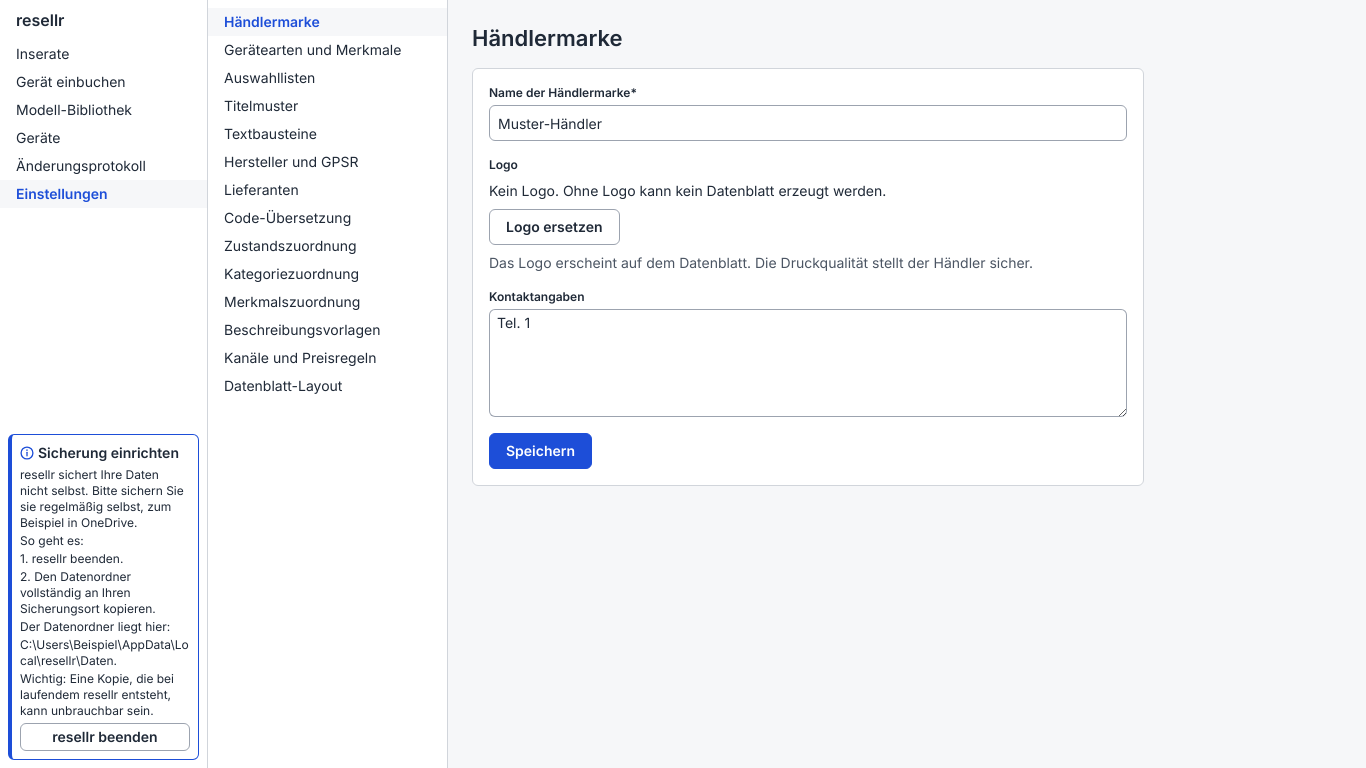
Test case: UI-026 merchant profile (CU-097) › UI-026.error DER-42-04 shows the error banner with the reference number and keeps the inputs
The image size is (1366, 768).
Expected: the field labelled "Name der Händlermarke*" holds "Muster-Händler", left=489, top=105, right=1127, bottom=141
Step 1. Replace the text in the text box labelled "Kontaktangaben" with "Tel. 2" → {"x": 808, "y": 363}, box left=489, top=309, right=1127, bottom=417
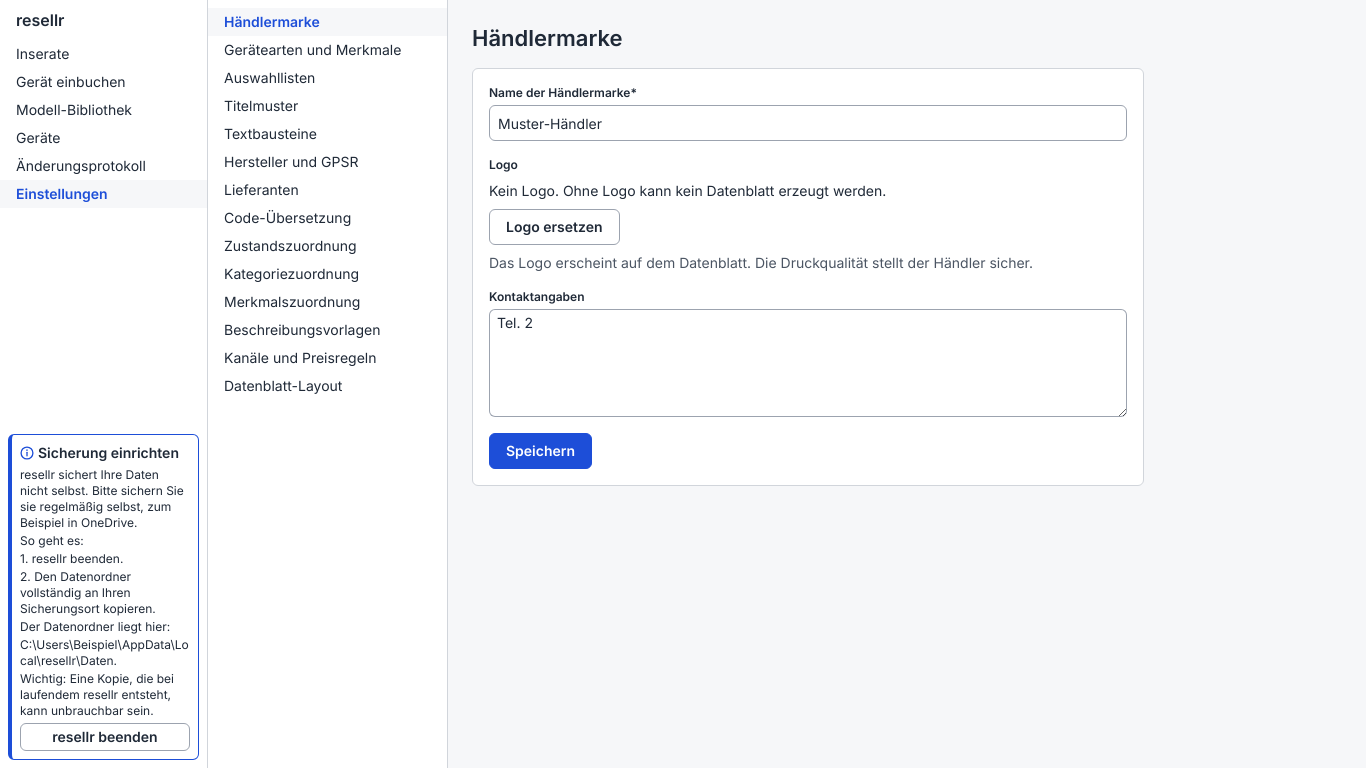
Step 2. Replace the text in the field labelled "Name der Händlermarke*" with "Demo-Händler" → {"x": 808, "y": 123}, box left=489, top=105, right=1127, bottom=141
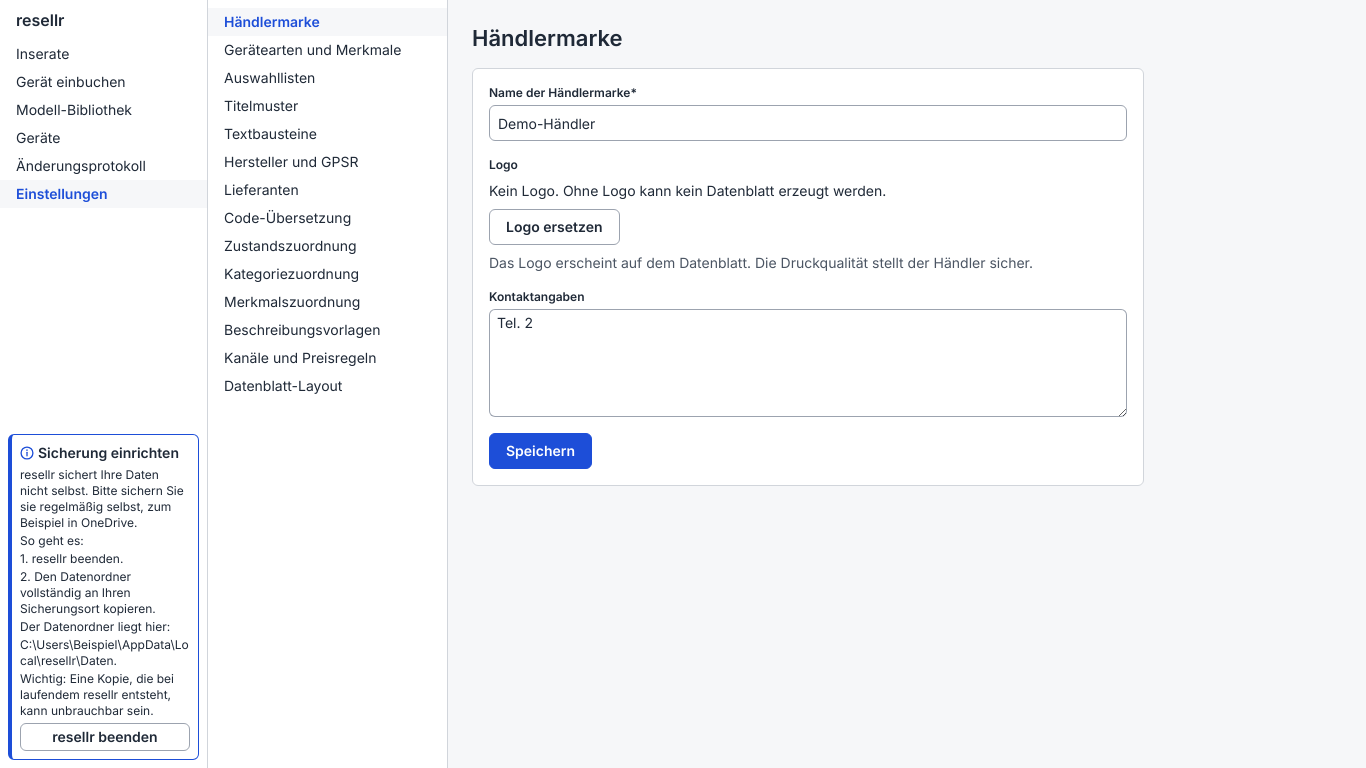
Step 3. Click the button "Speichern" → {"x": 541, "y": 451}, box left=489, top=433, right=592, bottom=469
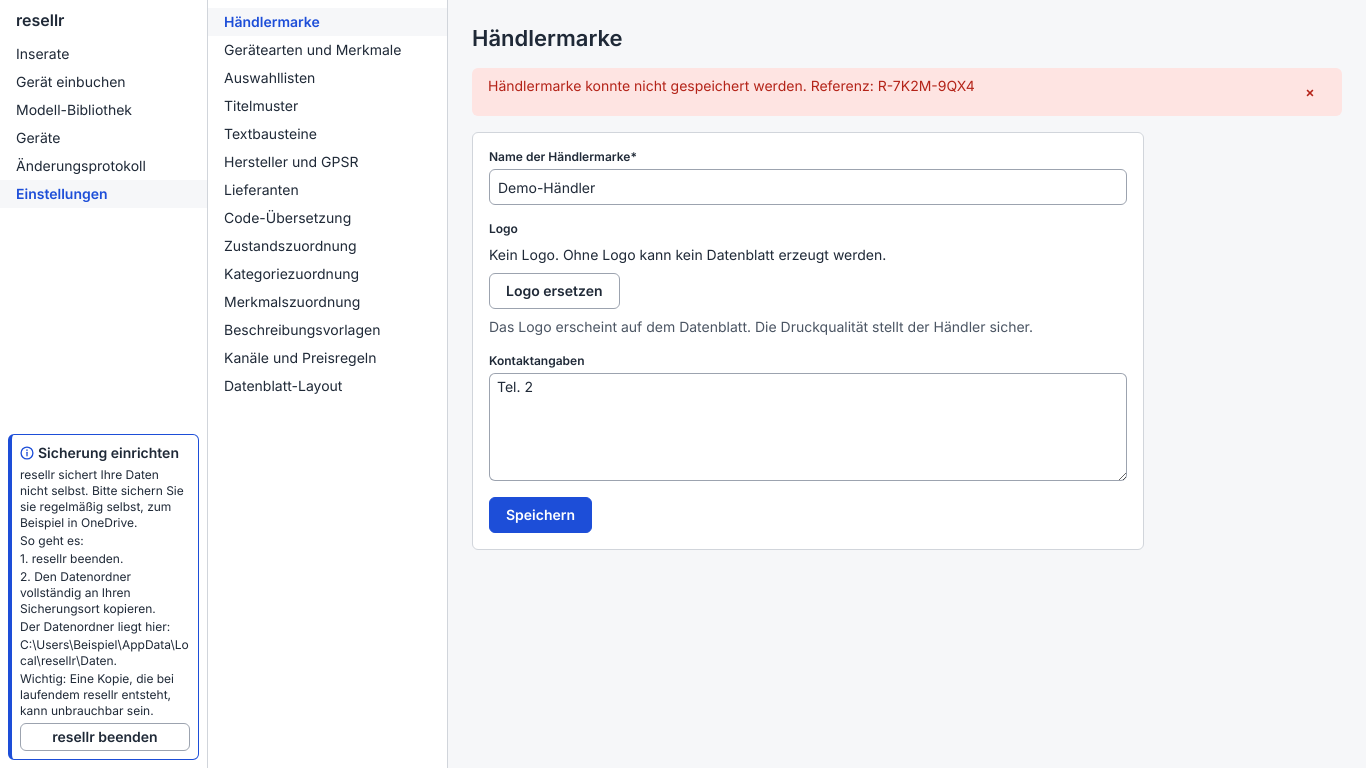
Expected: the button "Speichern" is enabled, left=489, top=497, right=592, bottom=533
Now the message shows "Händlermarke konnte nicht gespeichert werden. Referenz: R-7K2M-9QX4", box left=488, top=77, right=975, bottom=94
